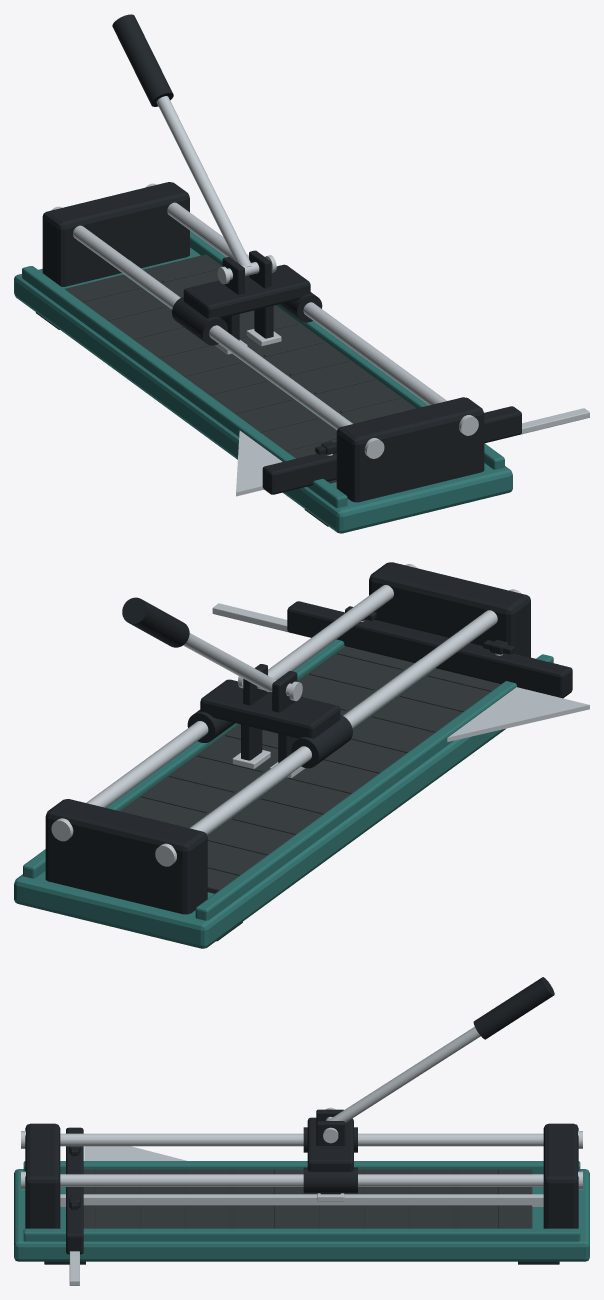
File: full.fbx
3 views of the same model, one above another, from view 1: azimuth 30°, elevation 25°; view 2: azimuth 150°, elevation 25°; view 3: azimuth 270°, elevation 25° (orthographic). The views are drawn at different scales.
Parts seen in each view (by area): view 1: Main ribbed base, Separate rubber support bed -0.066, End rail tower -0.405, End rail tower 0.405, Separate rubber support bed 0.066, Long structural rib -0.125, Parallel guide rail -0.075, Parallel guide rail 0.075, Carriage bridge, Perpendicular fence, Long diagonal lever, Long structural rib 0.125 (+4 smaller); view 2: Separate rubber support bed -0.066, Main ribbed base, End rail tower 0.405, Separate rubber support bed 0.066, End rail tower -0.405, Perpendicular fence, Long structural rib -0.125, Parallel guide rail -0.075, Parallel guide rail 0.075, Carriage bridge, Flat triangular guide wing, Long structural rib 0.125 (+8 smaller); view 3: Main ribbed base, Separate rubber support bed 0.066, Long structural rib 0.125, Parallel guide rail -0.075, Parallel guide rail 0.075, Central contact spine, Separate rubber support bed -0.066, Long structural rib -0.125, End rail tower -0.405, End rail tower 0.405, Long diagonal lever, Shaped lever grip (+5 smaller).
Boxes of the visible parts, x1,y1,x2,y2 form: Main ribbed base: [14, 247, 512, 533]; Separate rubber support bed -0.066: [65, 274, 336, 483]; End rail tower -0.405: [336, 397, 484, 502]; End rail tower 0.405: [42, 182, 189, 286]; Separate rubber support bed 0.066: [143, 254, 416, 423]; Long structural rib -0.125: [22, 266, 347, 507]; Parallel guide rail -0.075: [73, 225, 352, 429]; Parallel guide rail 0.075: [167, 202, 446, 405]; Carriage bridge: [183, 264, 310, 318]; Perpendicular fence: [262, 406, 521, 494]; Long diagonal lever: [156, 96, 250, 267]; Long structural rib 0.125: [190, 230, 504, 469]; Separate rubber support bed -0.066: [207, 668, 500, 893]; Main ribbed base: [14, 657, 558, 948]; End rail tower 0.405: [45, 799, 207, 914]; Separate rubber support bed 0.066: [120, 646, 414, 828]; End rail tower -0.405: [369, 562, 530, 657]; Perpendicular fence: [287, 601, 572, 698]; Long structural rib -0.125: [195, 654, 553, 920]; Parallel guide rail -0.075: [190, 610, 497, 834]; Parallel guide rail 0.075: [86, 585, 393, 807]; Carriage bridge: [200, 679, 340, 738]; Flat triangular guide wing: [447, 687, 589, 741]; Long structural rib 0.125: [23, 639, 344, 878]; Main ribbed base: [14, 1169, 589, 1261]; Separate rubber support bed 0.066: [83, 1205, 532, 1228]; Long structural rib 0.125: [23, 1228, 580, 1241]; Parallel guide rail -0.075: [60, 1133, 543, 1146]; Parallel guide rail 0.075: [60, 1174, 543, 1186]; Central contact spine: [60, 1194, 543, 1206]; Separate rubber support bed -0.066: [83, 1169, 532, 1194]; Long structural rib -0.125: [23, 1161, 580, 1173]; End rail tower -0.405: [25, 1123, 60, 1228]; End rail tower 0.405: [543, 1123, 578, 1228]; Long diagonal lever: [328, 1026, 480, 1122]; Shaped lever grip: [473, 977, 554, 1039].
Bounding box in the file's own units: 55 × 43.39 × 90.
